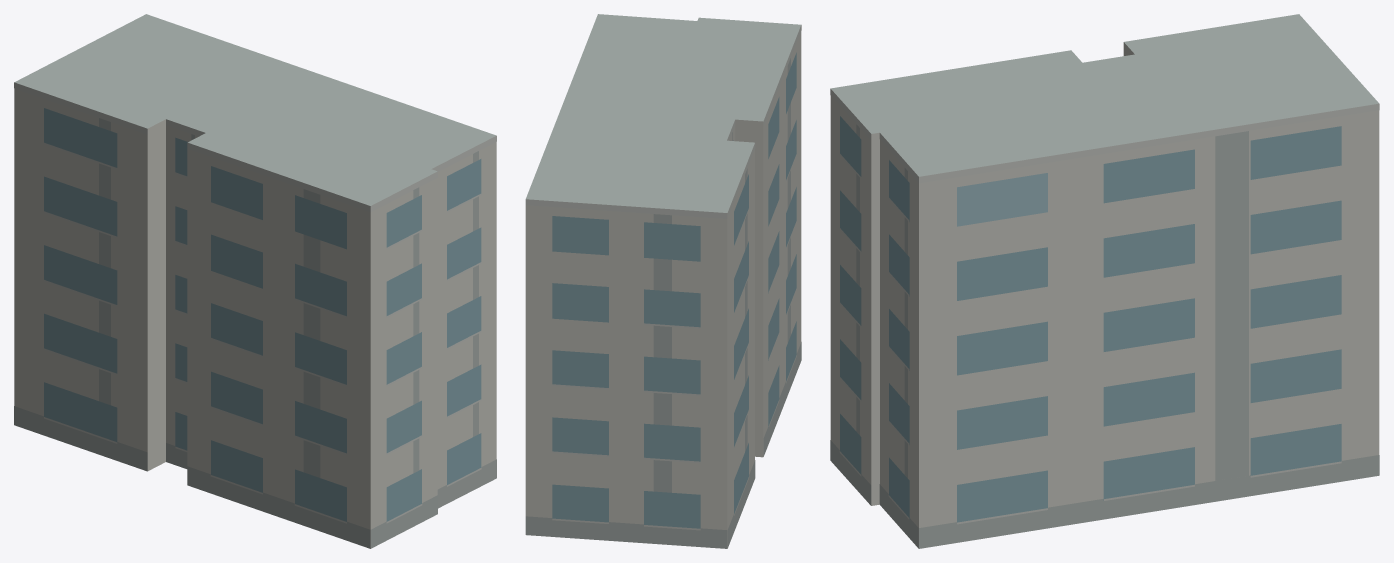
Rendered from survey-upis-32793282.glb.
The picture shows the model from 3 angles, left to right: view 1: azimuth 30°, elevation 25°; view 2: azimuth 150°, elevation 25°; view 3: azimuth 270°, elevation 25°; orthographic projection. The views are drawn at different scales.
Visible parts, largest first — view 1: survey-upis-32793282.tmp; view 2: survey-upis-32793282.tmp; view 3: survey-upis-32793282.tmp.
Part boxes in pixels (x1,y1,x2,y2): survey-upis-32793282.tmp: (14, 14, 496, 548); survey-upis-32793282.tmp: (525, 14, 801, 548); survey-upis-32793282.tmp: (830, 14, 1379, 548).
Size of the model in its own units: 12.77 by 13.6 by 18.2.
